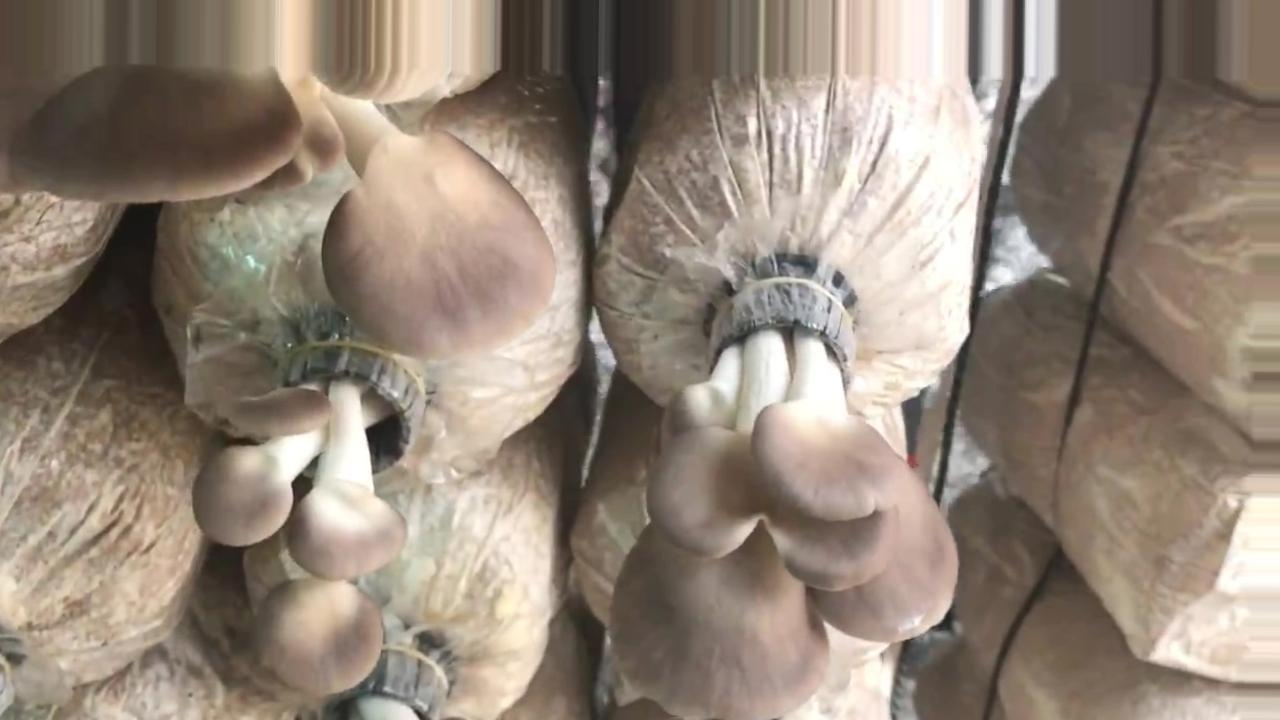nam: (3, 1, 552, 359), (613, 285, 956, 720), (193, 342, 427, 688)
